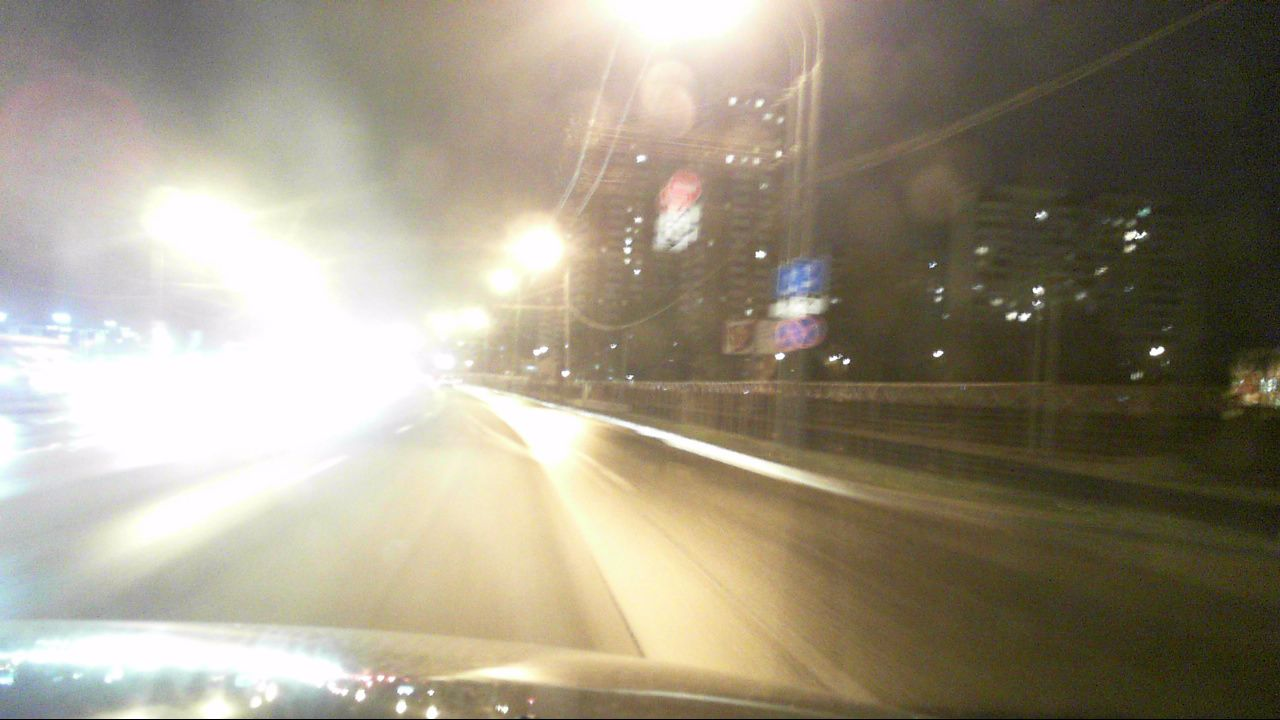No Parking: (789, 317, 822, 347)
